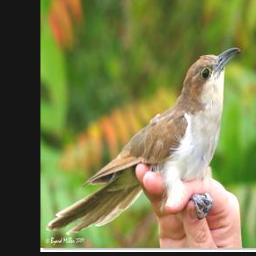Cuckoo: (45, 45, 240, 234)
